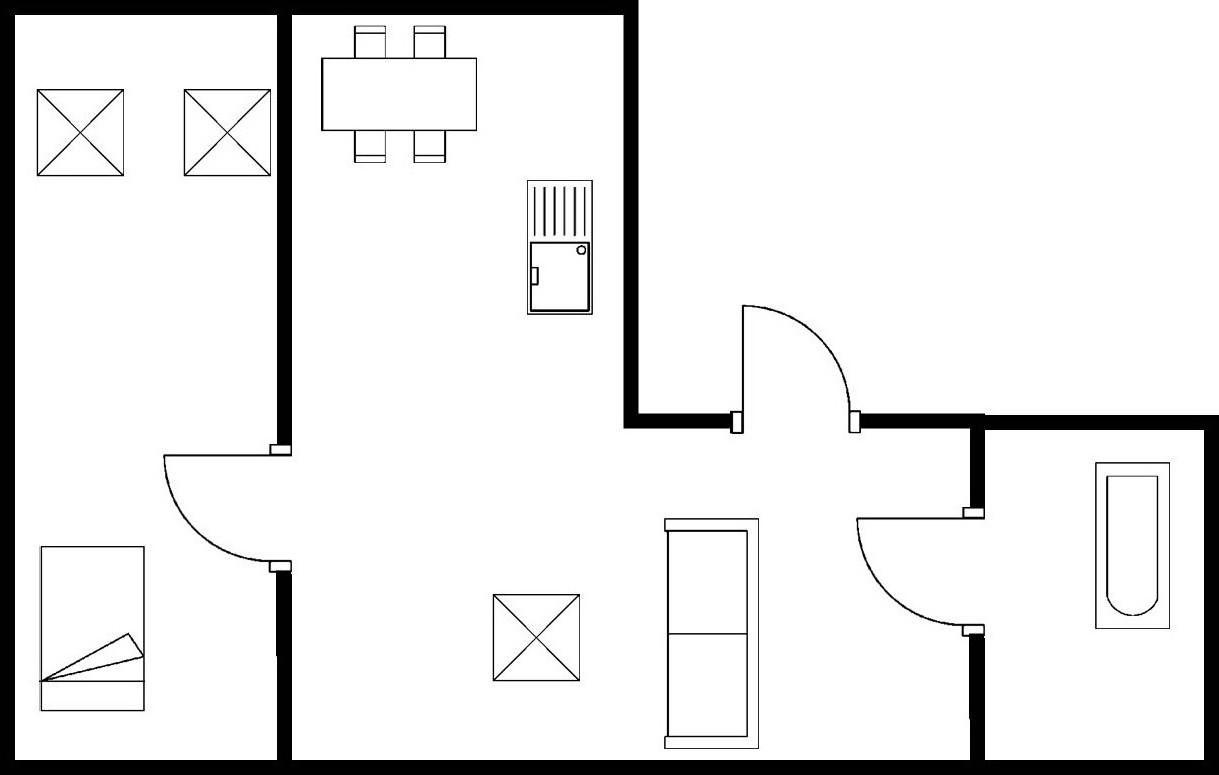bed: (34, 538, 150, 718)
dining_table: (314, 20, 483, 167)
sink: (521, 174, 598, 320)
sofa: (658, 512, 764, 753)
tub: (1089, 455, 1174, 635)
